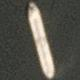ship: (0, 0, 21, 40)
